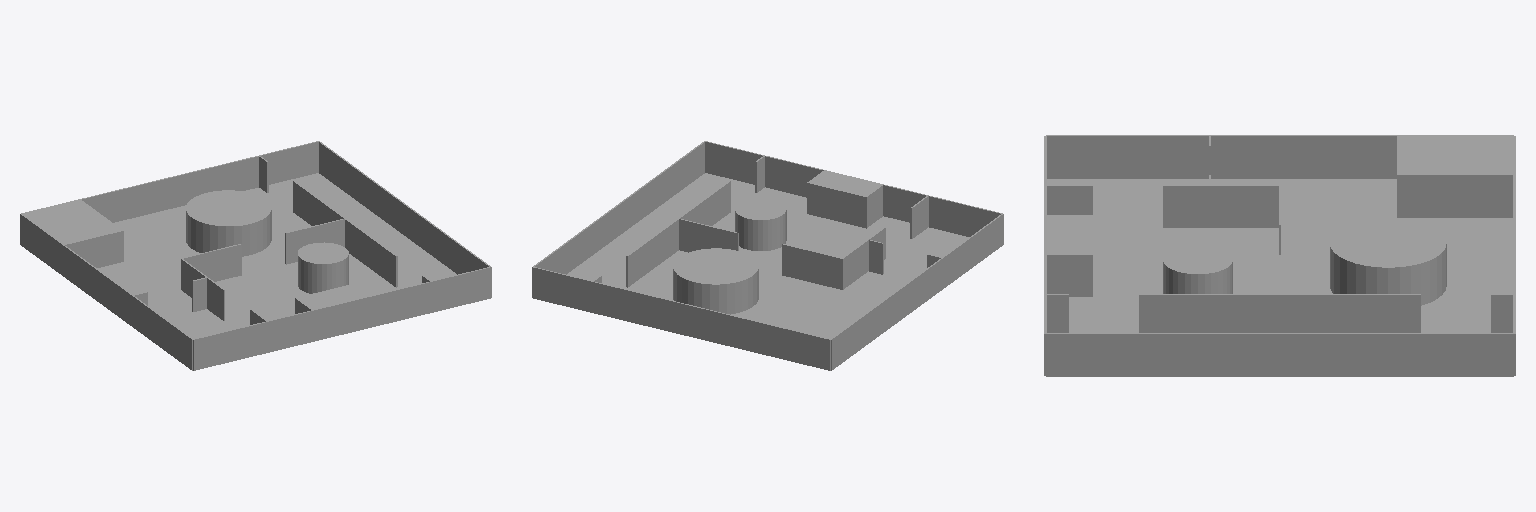
The robot description file, URDF, robot "floor_plan":
<?xml version="1.0"?>
<robot name="floor_plan">
    <material name="grey">
        <color rgba="0.7 0.7 0.7 1.0"/>
    </material>

    <link name="base">
        <visual>
            <origin rpy="1.5707 0 0" xyz="0 0 0.0"/>
            <geometry>
                <mesh scale="0.4 0.4 0.4" filename="package://floor_plan/floor_plan.obj"/>
            </geometry>
            <material name="grey"/>
        </visual>
        <collision concave="yes">
            <origin rpy="1.5707 0 0" xyz="0 0 -0.017"/>
            <geometry>
                <mesh scale="0.4 0.4 0.4" filename="package://floor_plan/floor_plan.obj"/>
            </geometry>
        </collision>
    </link>

</robot>

--- Facts derived from the render (not from the file) ---
The picture shows the robot from 3 angles, left to right: view 1: azimuth 30°, elevation 25°; view 2: azimuth 150°, elevation 25°; view 3: azimuth 270°, elevation 25°; orthographic projection.
Robot: floor_plan — 1 links, 0 joints (none); root link base; default pose: every joint at zero.
Visible links, largest first — view 1: base; view 2: base; view 3: base.
Link boxes in pixels (<box>): base: <box>20,141,491,370</box>; base: <box>532,141,1003,370</box>; base: <box>1044,135,1515,376</box>.
Size in the robot's own frame: 8.04 by 8.04 by 0.8008 metres.
1 mesh visuals loaded from 1 distinct referenced files (1 OBJ).